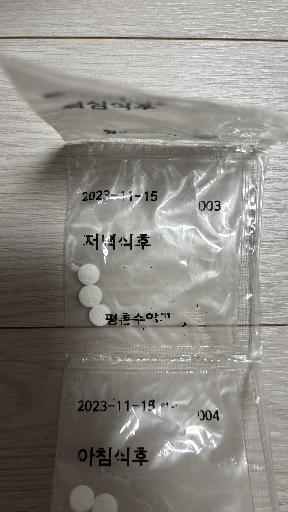Besti-on: (92, 493, 117, 512), (78, 264, 100, 285)
Gaster: (69, 485, 94, 512), (79, 285, 102, 308)
Q-Rokel: (78, 264, 100, 285)
Solondo: (89, 304, 110, 326)
vinyl: (66, 144, 261, 345)
